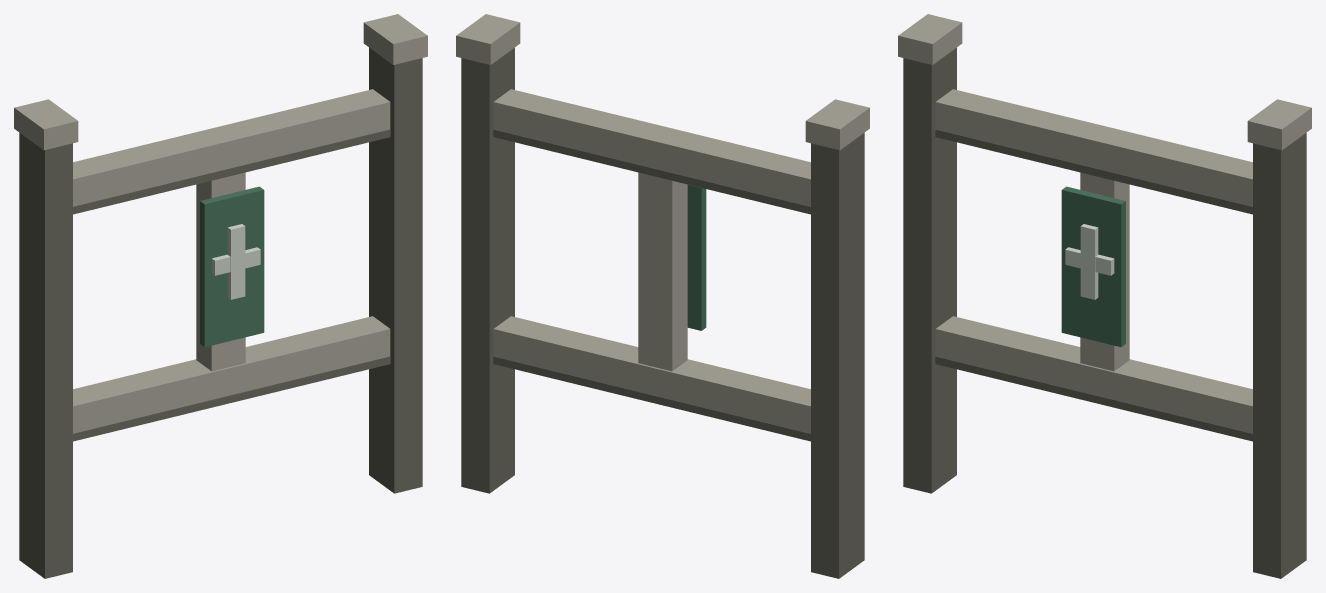
File: CMU3DMedicalHandrail.glb
3 views of the same model, side by side, from view 1: azimuth 30°, elevation 25°; view 2: azimuth 150°, elevation 25°; view 3: azimuth 330°, elevation 25° (orthographic).
Visible parts, largest first — view 1: end post (×2), horizontal rail (×2), green medical placard, rail underside (×2), post cap (×2), center brace, medical cross vertical, medical cross horizontal; view 2: end post (×2), horizontal rail (×2), center brace, rail underside (×2), post cap (×2), green medical placard; view 3: end post (×2), horizontal rail (×2), green medical placard, rail underside (×2), post cap (×2), center brace, medical cross vertical, medical cross horizontal.
Boxes of the visible parts, x1=… form: end post (×2): x1=19, y1=47, x2=422, y2=578; horizontal rail (×2): x1=73, y1=89, x2=390, y2=433; green medical placard: x1=200, y1=186, x2=264, y2=346; rail underside (×2): x1=73, y1=129, x2=390, y2=441; post cap (×2): x1=14, y1=14, x2=427, y2=150; center brace: x1=196, y1=172, x2=245, y2=371; medical cross vertical: x1=227, y1=224, x2=245, y2=299; medical cross horizontal: x1=211, y1=247, x2=260, y2=275; end post (×2): x1=461, y1=47, x2=864, y2=578; horizontal rail (×2): x1=493, y1=89, x2=810, y2=433; center brace: x1=638, y1=172, x2=687, y2=371; rail underside (×2): x1=493, y1=129, x2=810, y2=441; post cap (×2): x1=456, y1=14, x2=869, y2=150; green medical placard: x1=687, y1=184, x2=706, y2=330; end post (×2): x1=903, y1=47, x2=1306, y2=578; horizontal rail (×2): x1=935, y1=89, x2=1252, y2=433; green medical placard: x1=1061, y1=186, x2=1125, y2=346; rail underside (×2): x1=935, y1=129, x2=1252, y2=441; post cap (×2): x1=898, y1=14, x2=1311, y2=150; center brace: x1=1080, y1=172, x2=1129, y2=371; medical cross vertical: x1=1080, y1=224, x2=1098, y2=299; medical cross horizontal: x1=1065, y1=247, x2=1114, y2=275.
Bounding box in the file's own units: 0.956 × 1.07 × 0.138.
